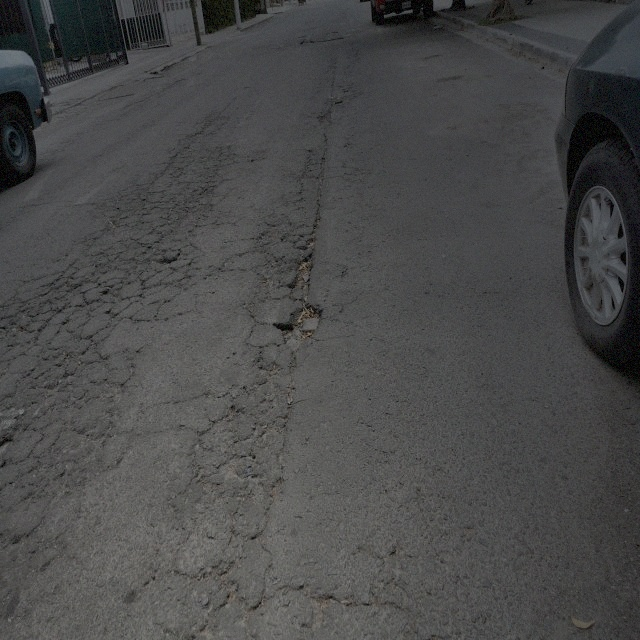pothole: (276, 224, 327, 351), (302, 584, 328, 630), (332, 97, 342, 106)
